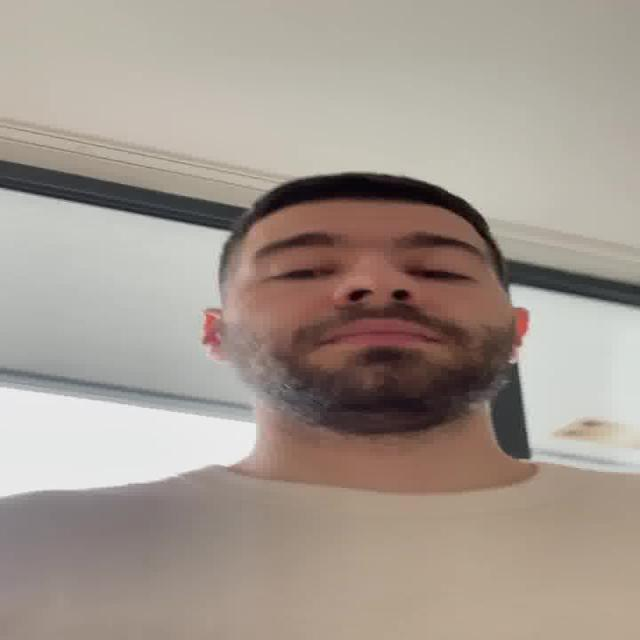earlobe: (504, 306, 531, 367), (200, 307, 227, 362)
